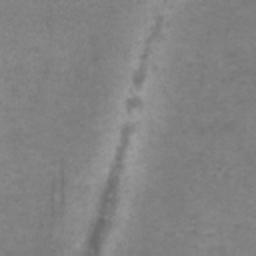Finishing roll printing: (79, 124, 134, 253), (132, 15, 164, 90), (125, 96, 145, 114)
